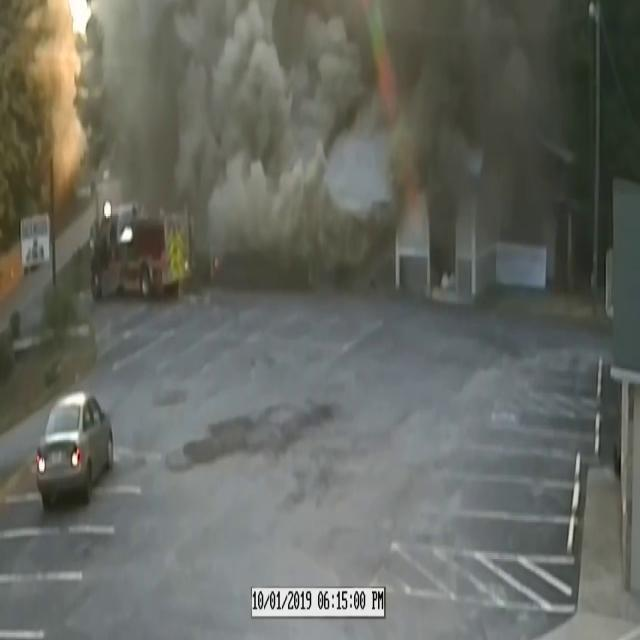Smoke: (112, 0, 416, 283), (396, 0, 604, 180)
